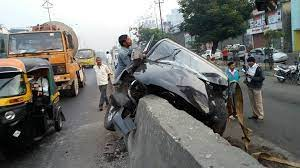accident: (100, 56, 253, 145)
